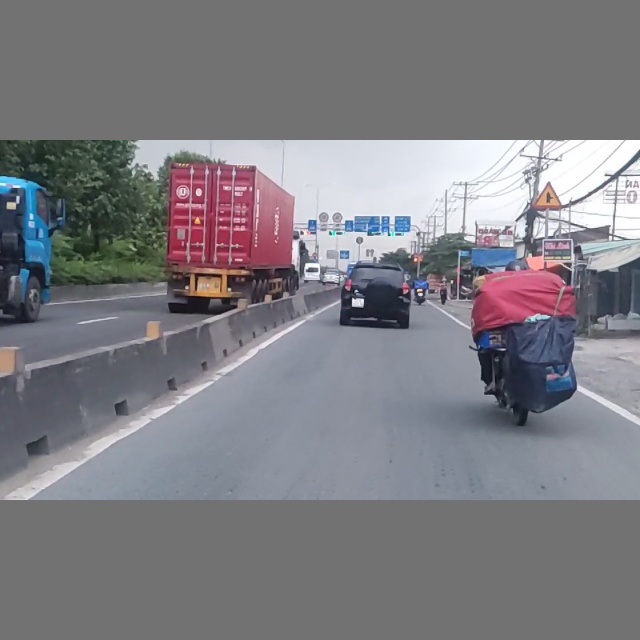W.207: (531, 180, 563, 210)
